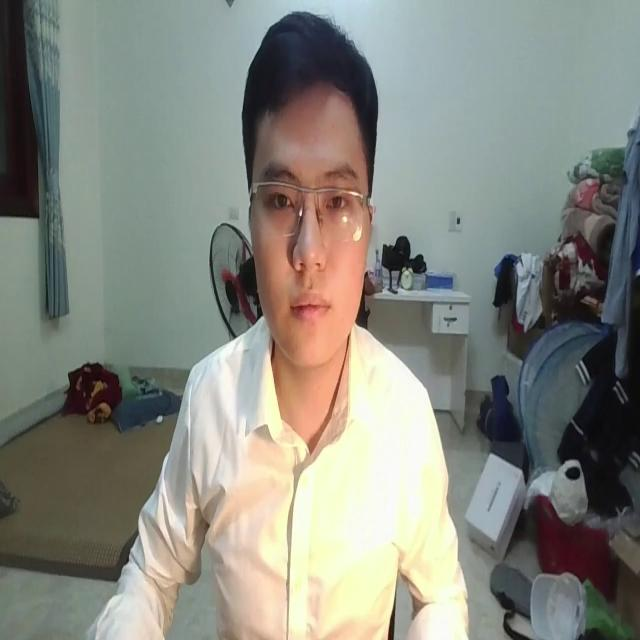student: (98, 6, 456, 640)
